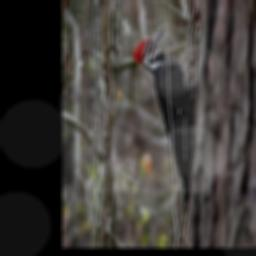Woodpecker: (130, 28, 198, 209)
